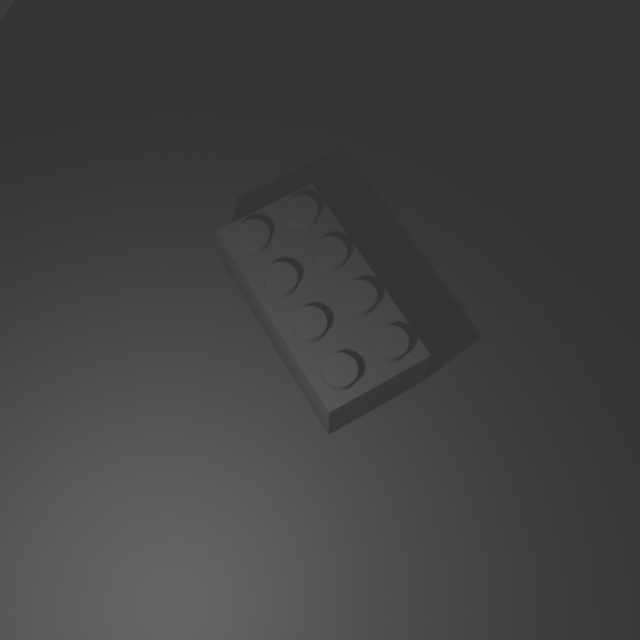lego_2x4: (215, 177, 432, 435)
